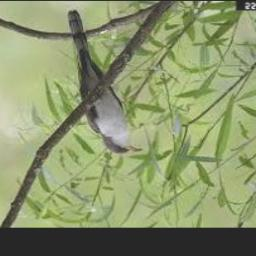Cuckoo: (67, 10, 141, 154)
